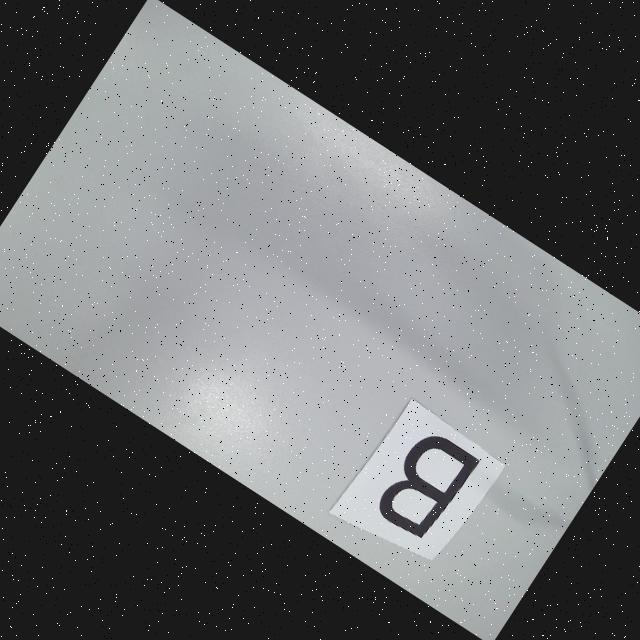FAKE: (370, 426, 479, 546)
